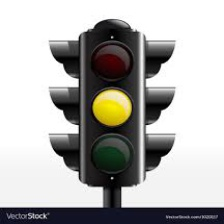semaforo: (79, 32, 146, 187)
